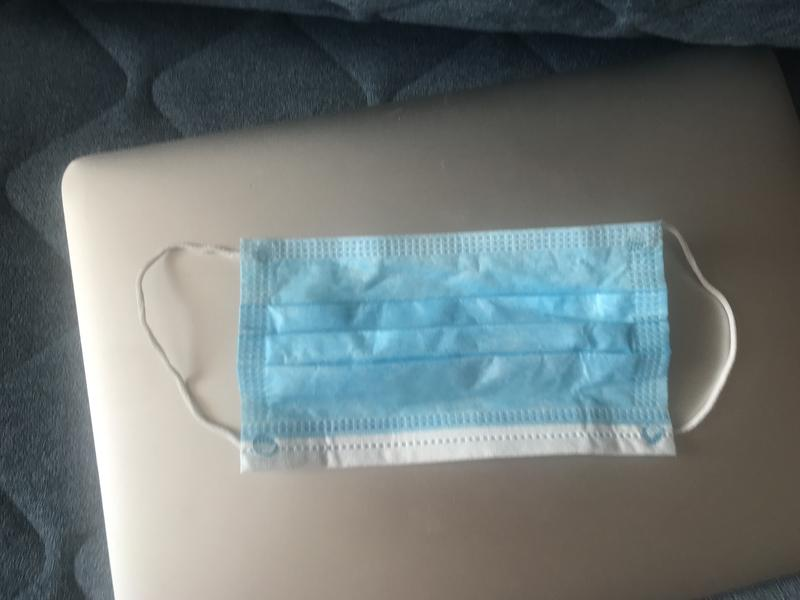medical_mask: (140, 221, 737, 475)
